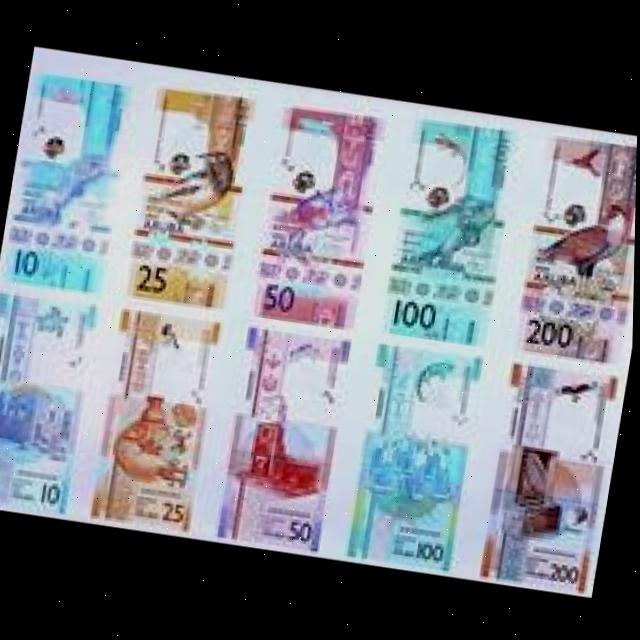banknote: (464, 347, 629, 597), (376, 106, 539, 354), (339, 337, 506, 571), (0, 47, 154, 297), (245, 86, 395, 342), (124, 68, 275, 316), (86, 300, 243, 532), (207, 325, 359, 556), (501, 123, 638, 365), (0, 282, 128, 514)
